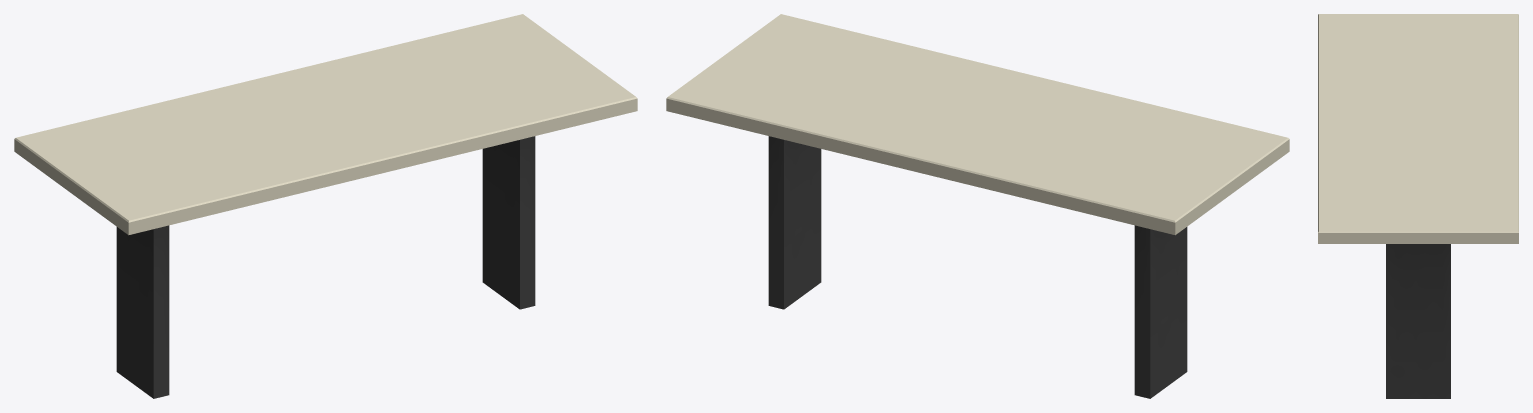
File: FamilyRestaurant_Table.fbx
3 views of the same model, side by side, from view 1: azimuth 30°, elevation 25°; view 2: azimuth 150°, elevation 25°; view 3: azimuth 270°, elevation 25° (orthographic). The views are drawn at different scales.
Parts seen in each view (by area): view 1: Table; view 2: Table; view 3: Table.
Boxes of the visible parts, <box> form: Table: <box>14,14,637,398</box>; Table: <box>666,14,1289,398</box>; Table: <box>1318,14,1518,398</box>.
Bounding box in the file's own units: 180 × 74.96 × 70.16.
